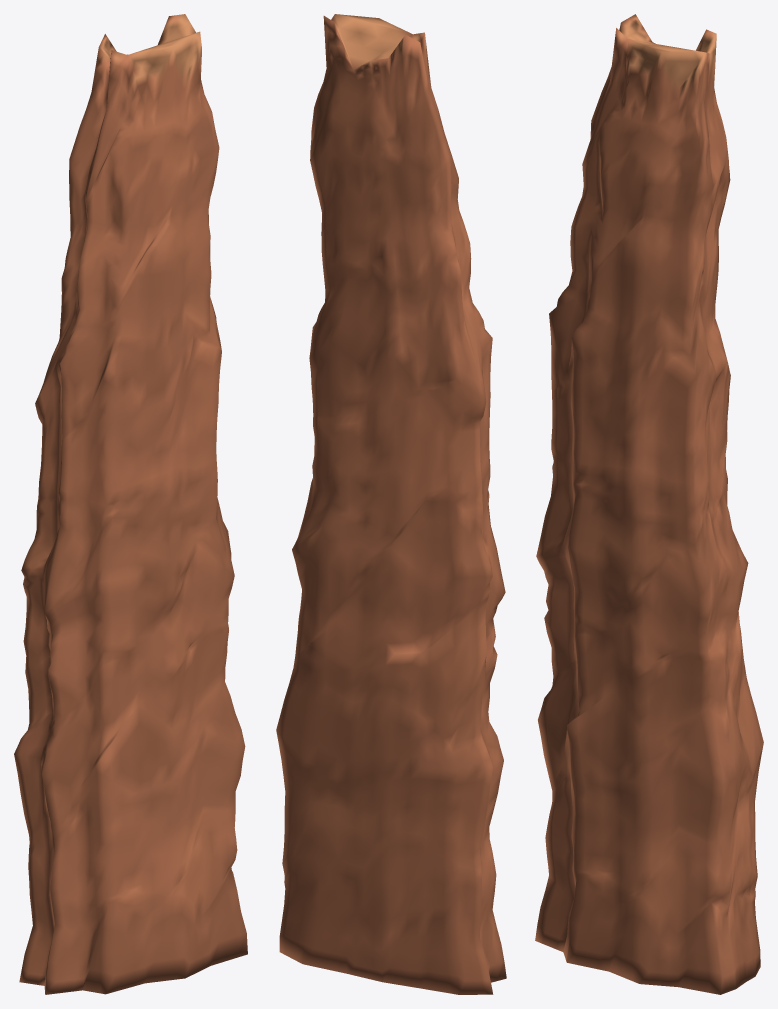
Rendered from wind-blade-dusk-v1.glb.
3 renders of one model, left to right at view 1: azimuth 30°, elevation 25°; view 2: azimuth 150°, elevation 25°; view 3: azimuth 330°, elevation 25°, orthographic.
Parts seen in each view (by area): view 1: wind-blade-dusk-v1; view 2: wind-blade-dusk-v1; view 3: wind-blade-dusk-v1.
Part boxes in pixels (x1=…): wind-blade-dusk-v1: x1=14, y1=14, x2=247, y2=994; wind-blade-dusk-v1: x1=276, y1=14, x2=506, y2=994; wind-blade-dusk-v1: x1=535, y1=14, x2=763, y2=994.
Bounding box in the file's own units: 36.57 × 154 × 16.66.
